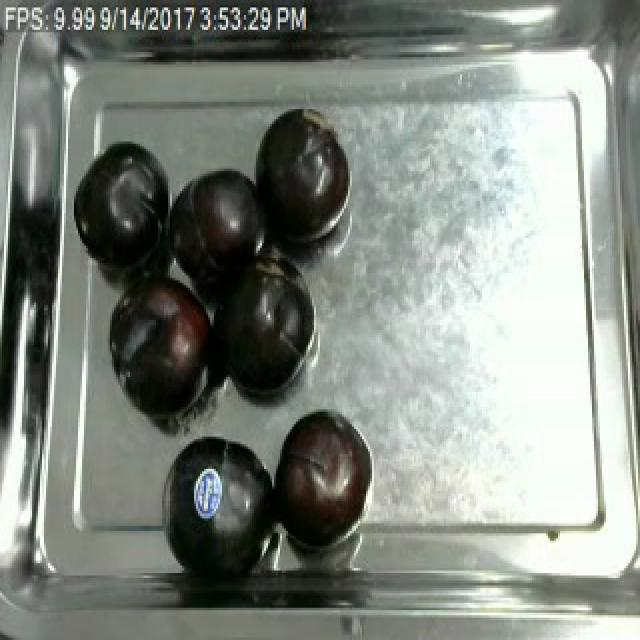Fruit: (106, 270, 222, 427), (268, 402, 376, 548), (248, 102, 352, 250), (206, 256, 310, 404), (72, 139, 170, 275), (184, 164, 266, 273)
